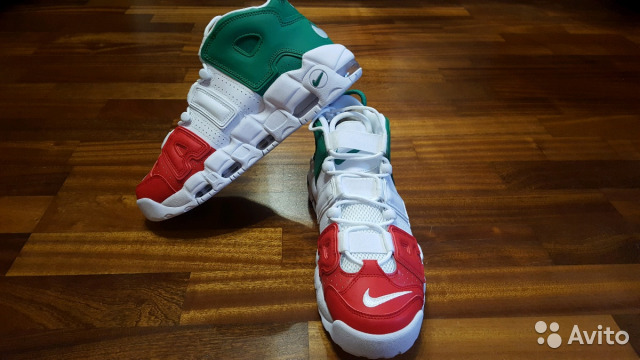Nike Air Uptempo '96 Italy: (132, 2, 359, 230), (276, 88, 449, 359)
